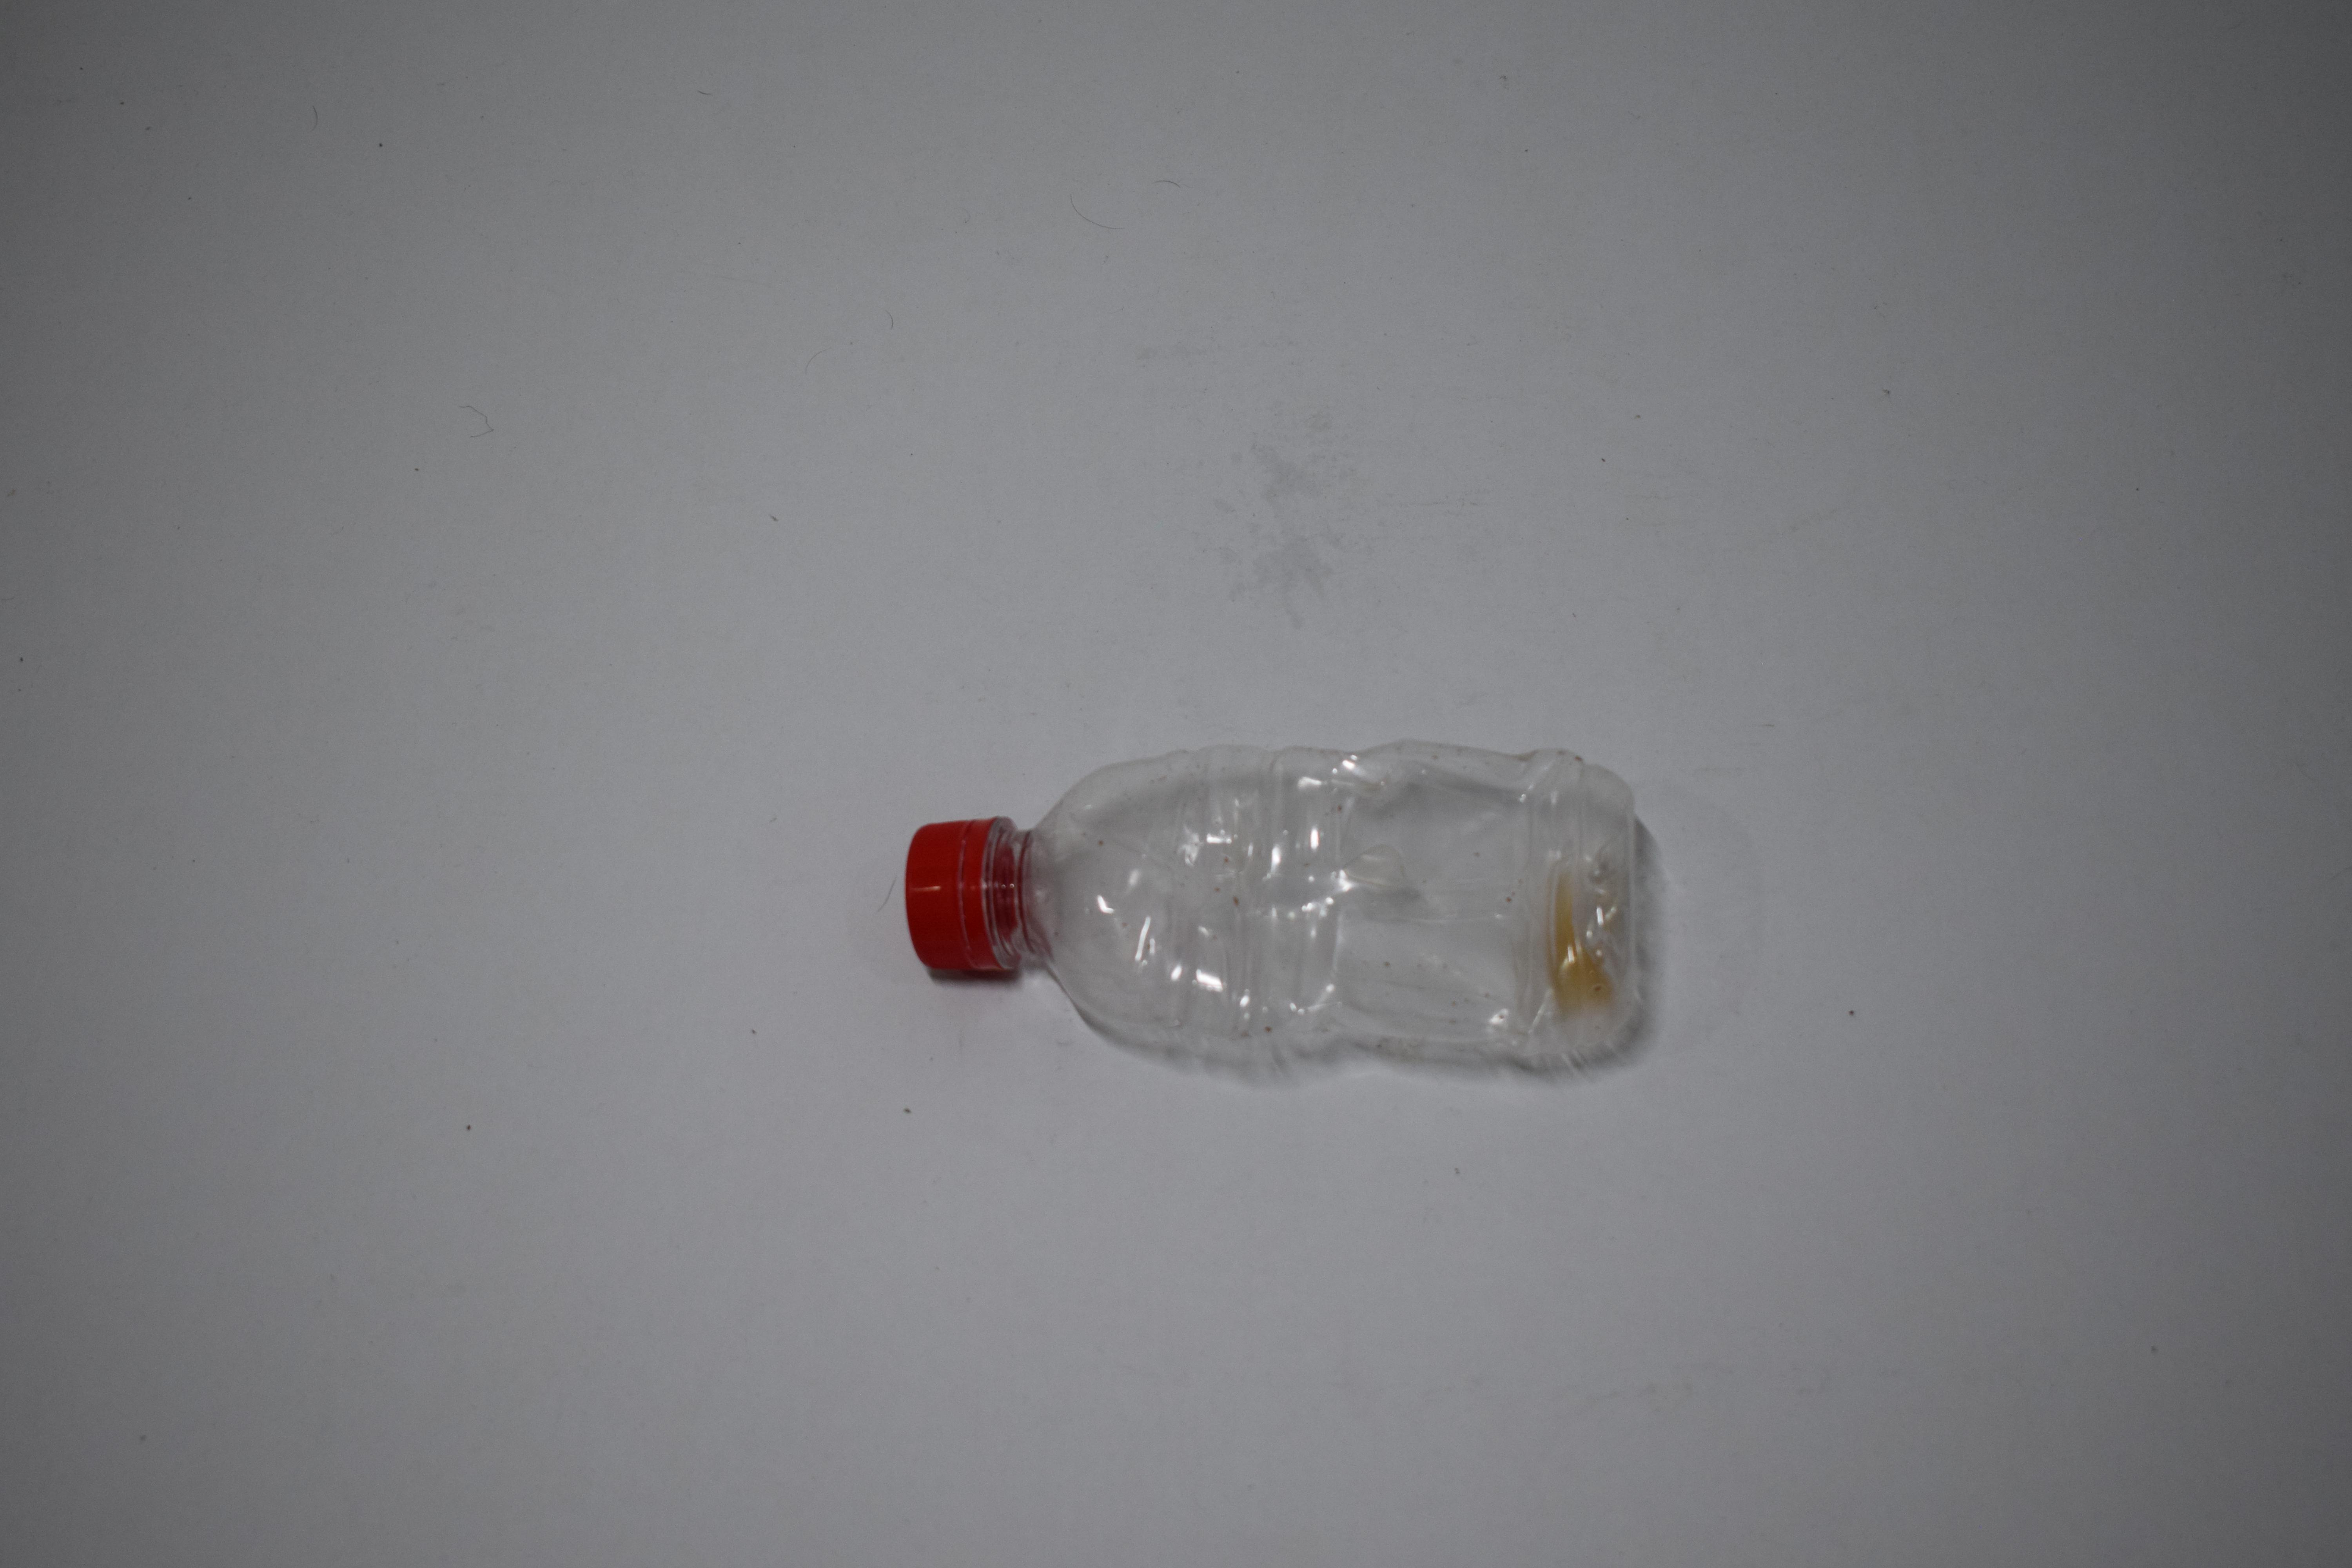bottle: (0, 0, 478, 282)
